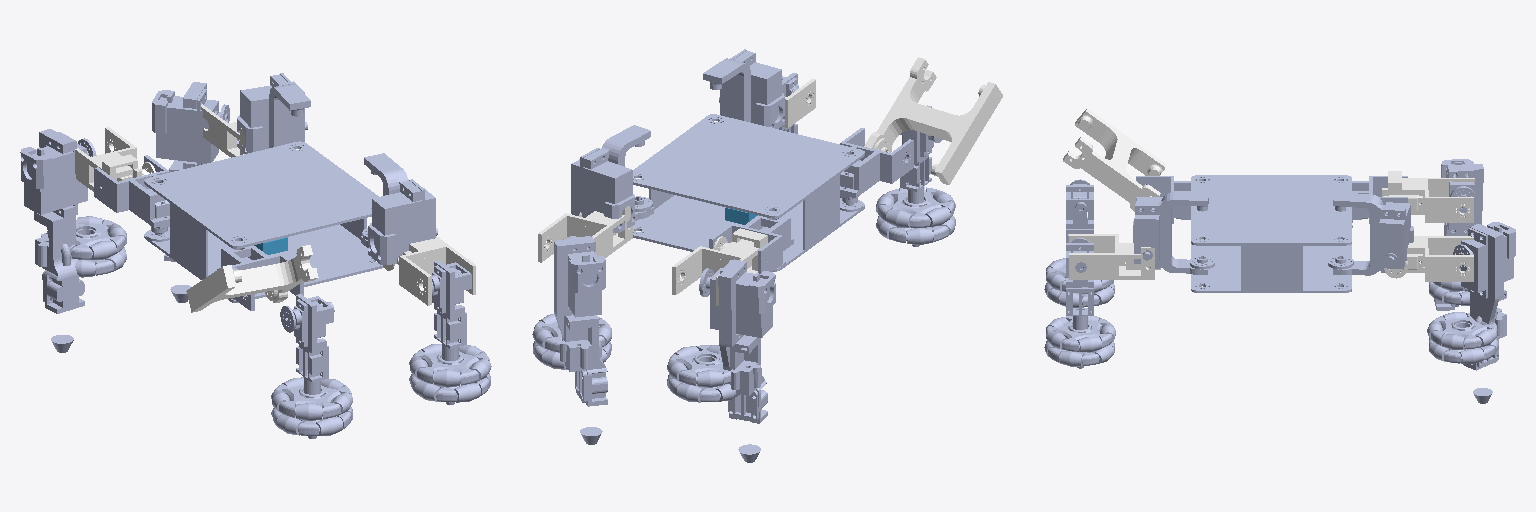
--- What the picture shows (computed from the rendered views, not written in the file) ---
Views: 3 orthographic renders of the robot side by side, from view 1: azimuth 30°, elevation 25°; view 2: azimuth 150°, elevation 25°; view 3: azimuth 270°, elevation 25°.
Model peter_robot with 18 links and 17 joints (12 revolute, 4 continuous, 1 fixed), rooted at base_link, posed every joint at zero.
Visible links, largest first — view 1: base_link, TibiaLD_link, CoxisRU_link, TibiaLU_link, CoxisLU_link, FemurRD_link, RuedaRU_link, RuedaRD_link, TibiaRD_link, CoxisLD_link, TibiaRU_link, RuedaLD_link (+4 smaller); view 2: base_link, TibiaLD_link, TibiaLU_link, FemurRD_link, CoxisLU_link, CoxisRU_link, RuedaRD_link, RuedaLD_link, CoxisRD_link, FemurLD_link, FemurLU_link, CoxisLD_link (+3 smaller); view 3: base_link, TibiaLU_link, FemurRD_link, CoxisLU_link, CoxisRU_link, FemurRU_link, RuedaLU_link, FemurLD_link, RuedaRU_link, FemurLU_link, TibiaLD_link, TibiaRU_link (+5 smaller).
Boxes of the visible links, x1,y1,x2,y2 form: base_link: [144, 141, 383, 302]; TibiaLD_link: [20, 129, 96, 352]; CoxisRU_link: [361, 153, 437, 264]; TibiaLU_link: [152, 82, 229, 302]; CoxisLU_link: [237, 73, 310, 153]; FemurRD_link: [186, 245, 318, 312]; RuedaRU_link: [409, 344, 491, 402]; RuedaRD_link: [271, 377, 352, 435]; TibiaRD_link: [280, 294, 334, 438]; CoxisLD_link: [94, 155, 169, 241]; TibiaRU_link: [423, 260, 471, 404]; RuedaLD_link: [46, 216, 126, 277]; base_link: [633, 114, 864, 271]; TibiaLD_link: [699, 259, 775, 462]; TibiaLU_link: [554, 236, 607, 444]; FemurRD_link: [864, 57, 1002, 184]; CoxisLU_link: [571, 125, 653, 232]; CoxisRU_link: [703, 49, 784, 128]; RuedaRD_link: [876, 187, 955, 244]; RuedaLD_link: [667, 345, 739, 402]; CoxisRD_link: [840, 128, 913, 211]; FemurLD_link: [672, 228, 767, 305]; FemurLU_link: [538, 206, 632, 262]; CoxisLD_link: [709, 215, 793, 273]; base_link: [1191, 175, 1351, 292]; TibiaLU_link: [1453, 222, 1515, 403]; FemurRD_link: [1063, 108, 1166, 211]; CoxisLU_link: [1328, 192, 1413, 275]; CoxisRU_link: [1133, 192, 1214, 274]; FemurRU_link: [1069, 234, 1160, 279]; RuedaLU_link: [1427, 312, 1498, 363]; FemurLD_link: [1382, 171, 1474, 222]; RuedaRU_link: [1044, 316, 1115, 366]; FemurLU_link: [1384, 236, 1473, 281]; TibiaLD_link: [1434, 159, 1483, 310]; TibiaRU_link: [1066, 238, 1093, 368].
Size in the robot's own frame: 0.2109 by 0.3798 by 0.1953 metres.
Meshes: 17 distinct files referenced, 17 mesh visuals loaded (17 binary STL).

The robot description file, URDF, robot "peter_robot":
<?xml version="1.0" encoding="utf-8"?>
<!-- This URDF was automatically created by SolidWorks to URDF Exporter! Originally created by Stephen Brawner ([email redacted]) 
     Commit Version: 1.6.0-4-g7f85cfe  Build Version: 1.6.7995.38578
     For more information, please see http://wiki.ros.org/sw_urdf_exporter -->
<robot
  name="peter_robot">
  <link
    name="base_link">
    <inertial>
      <origin
        xyz="0.0057951163939445818 0.0094736464900437718 0.02"
        rpy="0 0 0" />
      <mass
        value="6.0" />
      <inertia
        ixx="0.000954916141298042"
        ixy="-0.000122009140351572"
        ixz="0.00049717087497589"
        iyy="0.000938276141298042"
        iyz="-0.000196141248736565"
        izz="0.000187141337876107" />
    </inertial>
    <visual>
      <origin
        xyz="0 0 0"
        rpy="0 0 0" />
      <geometry>
        <mesh
          filename="package://peter_robot/meshes/Cuerpo_link.STL" />
      </geometry>
      <material
        name="">
        <color
          rgba="0.792156862745098 0.819607843137255 0.933333333333333 1" />
      </material>
    </visual>
    <collision>
      <origin
        xyz="0 0 0"
        rpy="0 0 0" />
      <geometry>
        <mesh
          filename="package://peter_robot/meshes/Cuerpo_link.STL" />
      </geometry>
    </collision>
  </link>

  <link name="imu_link">
    <visual>
      <geometry>
        <box size="0.02 0.02 0.01"/>
      </geometry>
    </visual>
    <collision>
      <geometry>
        <box size="0.1 0.1 0.05"/>
      </geometry>
    </collision>
    <inertial>
      <mass value="1e-5" />
      <origin xyz="0 0 0" rpy="0 0 0"/>
      <inertia ixx="1e-6" ixy="0" ixz="0" iyy="1e-6" iyz="0" izz="1e-6" />
    </inertial>
  </link>

  <joint
    name="IMU_joint"
    type="fixed">
    <origin
      xyz="0.0 0.0 0.005"
      rpy="3.1416 0 -1.5708" />
    <parent
      link="base_link" />
    <child
      link="imu_link" />
    <axis
      xyz="0 0 -1" />
  </joint>

  <gazebo reference="imu_link">
    <gravity>true</gravity>
    <sensor name="imu_sensor" type="imu">
      <always_on>true</always_on>
      <update_rate>100</update_rate>
      <visualize>true</visualize>
      <topic>__default_topic__</topic>
      <plugin filename="libgazebo_ros_imu_sensor.so" name="imu_plugin">
        <topicName>imu</topicName>
        <bodyName>imu_link</bodyName>
        <updateRateHZ>10.0</updateRateHZ>
        <gaussianNoise>0.0</gaussianNoise>
        <xyzOffset>0 0 0</xyzOffset>
        <rpyOffset>0 0 0</rpyOffset>
        <frameName>imu_link</frameName>
      </plugin>
      <pose>0 0 0 0 0 0</pose>
    </sensor>
  </gazebo>

  <link
    name="CoxisRU_link">
    <inertial>
      <origin
        xyz="0.0145758033903628 -0.000148324192035865 -0.00157951128660489"
        rpy="0 0 0" />
      <mass
        value="0.0198300229745734" />
      <inertia
        ixx="0.00033203887322426106"
        ixy="0.0074374349937085608"
        ixz="0.0056481319330245408"
        iyy="0.0046818529679331306"
        iyz="-0.0059763363601787710"
        izz="0.0062779650870579606" />
    </inertial>
    <visual>
      <origin
        xyz="0 0 0"
        rpy="0 0 0" />
      <geometry>
        <mesh
          filename="package://peter_robot/meshes/CoxisRU_link.STL" />
      </geometry>
      <material
        name="">
        <color
          rgba="0.792156862745098 0.819607843137255 0.933333333333333 1" />
      </material>
    </visual>
    <collision>
      <origin
        xyz="0 0 0"
        rpy="0 0 0" />
      <geometry>
        <mesh
          filename="package://peter_robot/meshes/CoxisRU_link.STL" />
      </geometry>
    </collision>
  </link>
  <joint
    name="CoxisRU_joint"
    type="revolute">
    <origin
      xyz="0.0558 -0.0558 0.02"
      rpy="3.1416 0 -1.5708" />
    <parent
      link="base_link" />
    <child
      link="CoxisRU_link" />
    <axis
      xyz="0 0 -1" />
    <limit
      lower="0"
      upper="1.57"
      effort="300"
      velocity="3" />
  </joint>
  <link
    name="FemurRU_link">
    <inertial>
      <origin
        xyz="0.0158446271127422 0.000731589545819266 -0.00234896627561063"
        rpy="0 0 0" />
      <mass
        value="0.0267646481312129" />
      <inertia
        ixx="0.0027372725885784506"
        ixy="0.0031908239997210907"
        ixz="0.0085342307337404507"
        iyy="0.0073568709647354206"
        iyz="-0.0032602627250091908"
        izz="0.0075404497968736806" />
    </inertial>
    <visual>
      <origin
        xyz="0 0 0"
        rpy="0 0 0" />
      <geometry>
        <mesh
          filename="package://peter_robot/meshes/FemurRU_link.STL" />
      </geometry>
      <material
        name="">
        <color
          rgba="1 1 1 1" />
      </material>
    </visual>
    <collision>
      <origin
        xyz="0 0 0"
        rpy="0 0 0" />
      <geometry>
        <mesh
          filename="package://peter_robot/meshes/FemurRU_link.STL" />
      </geometry>
    </collision>
  </link>
  <joint
    name="FemurRU_joint"
    type="revolute">
    <origin
      xyz="0.04455 0 -0.0046"
      rpy="-1.5708 0 0" />
    <parent
      link="CoxisRU_link" />
    <child
      link="FemurRU_link" />
    <axis
      xyz="0 0 -1" />
    <limit
      lower="-0.785"
      upper="0.785"
      effort="300"
      velocity="3" />
  </joint>
  <link
    name="TibiaRU_link">
    <inertial>
      <origin
        xyz="0.0303344390438305 -0.0064645402920726606 -0.00266255588885558"
        rpy="0 0 0" />
      <mass
        value="0.0203567389256734" />
      <inertia
        ixx="0.001075309559184606"
        ixy="0.0040821313346320112"
        ixz="-0.0072023647371747208"
        iyy="0.0035902033061377306"
        iyz="0.0080605163458934112"
        izz="0.0037227584809434606" />
    </inertial>
    <visual>
      <origin
        xyz="0 0 0"
        rpy="0 0 0" />
      <geometry>
        <mesh
          filename="package://peter_robot/meshes/TibiaRU_link.STL" />
      </geometry>
      <material
        name="">
        <color
          rgba="0.792156862745098 0.819607843137255 0.933333333333333 1" />
      </material>
    </visual>
    <collision>
      <origin
        xyz="0 0 0"
        rpy="0 0 0" />
      <geometry>
        <mesh
          filename="package://peter_robot/meshes/TibiaRU_link.STL" />
      </geometry>
    </collision>
  </link>
  <joint
    name="TibiaRU_joint"
    type="revolute">
    <origin
      xyz="0.05395 0 0.0016"
      rpy="0 0 -1.5708" />
    <parent
      link="FemurRU_link" />
    <child
      link="TibiaRU_link" />
    <axis
      xyz="0 0 -1" />
    <limit
      lower="-1.57"
      upper="0.3925"
      effort="300"
      velocity="3" />
  </joint>
  <link
    name="RuedaRU_link">
    <inertial>
      <origin
        xyz="-0.0022780147213019610 0.0025475066500746410 -0.0063190357210696208"
        rpy="0 0 0" />
      <mass
        value="0.0405034383813953" />
      <inertia
        ixx="0.005174137497296206"
        ixy="0.0068457155389386413"
        ixz="0.0021378186017250514"
        iyy="0.0051741383388720806"
        iyz="0.0066069139604846515"
        izz="0.0097299113209887706" />
    </inertial>
    <visual>
      <origin
        xyz="0 0 0"
        rpy="0 0 0" />
      <geometry>
        <mesh
          filename="package://peter_robot/meshes/RuedaRU_link.STL" />
      </geometry>
      <material
        name="">
        <color
          rgba="0.792156862745098 0.819607843137255 0.933333333333333 1" />
      </material>
    </visual>
    <collision>
      <origin
        xyz="0 0 0"
        rpy="0 0 0" />
      <geometry>
        <mesh
          filename="package://peter_robot/meshes/RuedaRU_link.STL" />
      </geometry>
    </collision>
  </link>
  <joint
    name="RuedaRU_joint"
    type="continuous">
    <origin
      xyz="0.07225 0 -0.0039"
      rpy="0 1.5708 0" />
    <parent
      link="TibiaRU_link" />
    <child
      link="RuedaRU_link" />
    <axis
      xyz="0 0 -1" />
    <limit
      effort="300"
      velocity="3" />
  </joint>
  <link
    name="CoxisLU_link">
    <inertial>
      <origin
        xyz="0.0145758033898372 -0.000148324188575952 -0.00157951128572802"
        rpy="0 0 0" />
      <mass
        value="0.0198300229757828" />
      <inertia
        ixx="0.0033203887324183906"
        ixy="0.0074374350512450708"
        ixz="0.0056481319356737508"
        iyy="0.0046818529679575306"
        iyz="-0.0059763413290627210"
        izz="0.0062779650870379706" />
    </inertial>
    <visual>
      <origin
        xyz="0 0 0"
        rpy="0 0 0" />
      <geometry>
        <mesh
          filename="package://peter_robot/meshes/CoxisLU_link.STL" />
      </geometry>
      <material
        name="">
        <color
          rgba="0.792156862745098 0.819607843137255 0.933333333333333 1" />
      </material>
    </visual>
    <collision>
      <origin
        xyz="0 0 0"
        rpy="0 0 0" />
      <geometry>
        <mesh
          filename="package://peter_robot/meshes/CoxisLU_link.STL" />
      </geometry>
    </collision>
  </link>
  <joint
    name="CoxisLU_joint"
    type="revolute">
    <origin
      xyz="0.0558 0.0558 0.02"
      rpy="3.1416 0 1.5708" />
    <parent
      link="base_link" />
    <child
      link="CoxisLU_link" />
    <axis
      xyz="0 0 -1" />
    <limit
      lower="-1.57"
      upper="0"
      effort="300"
      velocity="3" />
  </joint>
  <link
    name="FemurLU_link">
    <inertial>
      <origin
        xyz="0.0158446270939323 0.000731589541232057 -0.0023489662634897"
        rpy="0 0 0" />
      <mass
        value="0.0267646481619211" />
      <inertia
        ixx="0.0027372725904361806"
        ixy="0.0031908239941182507"
        ixz="0.0085342307466234407"
        iyy="0.0073568709674539306"
        iyz="-0.003260262652798508"
        izz="0.0075404497985481606" />
    </inertial>
    <visual>
      <origin
        xyz="0 0 0"
        rpy="0 0 0" />
      <geometry>
        <mesh
          filename="package://peter_robot/meshes/FemurLU_link.STL" />
      </geometry>
      <material
        name="">
        <color
          rgba="1 1 1 1" />
      </material>
    </visual>
    <collision>
      <origin
        xyz="0 0 0"
        rpy="0 0 0" />
      <geometry>
        <mesh
          filename="package://peter_robot/meshes/FemurLU_link.STL" />
      </geometry>
    </collision>
  </link>
  <joint
    name="FemurLU_joint"
    type="revolute">
    <origin
      xyz="0.04455 0 -0.0046"
      rpy="-1.5708 0 0" />
    <parent
      link="CoxisLU_link" />
    <child
      link="FemurLU_link" />
    <axis
      xyz="0 0 -1" />
    <limit
      lower="-0.785"
      upper="0.785"
      effort="300"
      velocity="3" />
  </joint>
  <link
    name="TibiaLU_link">
    <inertial>
      <origin
        xyz="0.0303344390398229 -0.0064645402714225106 0.000537444112589075"
        rpy="0 0 0" />
      <mass
        value="0.0203567389283255" />
      <inertia
        ixx="0.0010753095594363206"
        ixy="0.0040821340532090512"
        ixz="-0.0072023647216624708"
        iyy="0.0035902033064178606"
        iyz="0.0080605028999537812"
        izz="0.0037227584810593206" />
    </inertial>
    <visual>
      <origin
        xyz="0 0 0"
        rpy="0 0 0" />
      <geometry>
        <mesh
          filename="package://peter_robot/meshes/TibiaLU_link.STL" />
      </geometry>
      <material
        name="">
        <color
          rgba="0.792156862745098 0.819607843137255 0.933333333333333 1" />
      </material>
    </visual>
    <collision>
      <origin
        xyz="0 0 0"
        rpy="0 0 0" />
      <geometry>
        <mesh
          filename="package://peter_robot/meshes/TibiaLU_link.STL" />
      </geometry>
    </collision>
  </link>
  <joint
    name="TibiaLU_joint"
    type="revolute">
    <origin
      xyz="0.05395 0 -0.0016"
      rpy="0 0 -1.5708" />
    <parent
      link="FemurLU_link" />
    <child
      link="TibiaLU_link" />
    <axis
      xyz="0 0 -1" />
    <limit
      lower="-1.57"
      upper="0.3925"
      effort="300"
      velocity="3" />
  </joint>
  <link
    name="RuedaLU_link">
    <inertial>
      <origin
        xyz="0.002278017288692710 -0.0025475083154091710 -0.0063190355295561508"
        rpy="0 0 0" />
      <mass
        value="0.0405034383813952" />
      <inertia
        ixx="0.005174137497296206"
        ixy="0.0068457155759549713"
        ixz="-0.0021378184629713714"
        iyy="0.0051741383388720806"
        iyz="-0.0066069135756848315"
        izz="0.0097299113209887706" />
    </inertial>
    <visual>
      <origin
        xyz="0 0 0"
        rpy="0 0 0" />
      <geometry>
        <mesh
          filename="package://peter_robot/meshes/RuedaLU_link.STL" />
      </geometry>
      <material
        name="">
        <color
          rgba="0.792156862745098 0.819607843137255 0.933333333333333 1" />
      </material>
    </visual>
    <collision>
      <origin
        xyz="0 0 0"
        rpy="0 0 0" />
      <geometry>
        <mesh
          filename="package://peter_robot/meshes/RuedaLU_link.STL" />
      </geometry>
    </collision>
  </link>
  <joint
    name="RuedaLU_joint"
    type="continuous">
    <origin
      xyz="0.07225 0 -0.0007"
      rpy="0 -1.5708 0" />
    <parent
      link="TibiaLU_link" />
    <child
      link="RuedaLU_link" />
    <axis
      xyz="0 0 -1" />
  </joint>
  <link
    name="CoxisRD_link">
    <inertial>
      <origin
        xyz="0.0145758034147555 -0.000148324186287456 -0.00157951130233852"
        rpy="0 0 0" />
      <mass
        value="0.0198300229471255" />
      <inertia
        ixx="0.0033203887309334506"
        ixy="0.0074374350931830508"
        ixz="0.0056481317661782108"
        iyy="0.0046818529645321506"
        iyz="-0.0059763449243910710"
        izz="0.0062779650849971806" />
    </inertial>
    <visual>
      <origin
        xyz="0 0 0"
        rpy="0 0 0" />
      <geometry>
        <mesh
          filename="package://peter_robot/meshes/CoxisRD_link.STL" />
      </geometry>
      <material
        name="">
        <color
          rgba="0.792156862745098 0.819607843137255 0.933333333333333 1" />
      </material>
    </visual>
    <collision>
      <origin
        xyz="0 0 0"
        rpy="0 0 0" />
      <geometry>
        <mesh
          filename="package://peter_robot/meshes/CoxisRD_link.STL" />
      </geometry>
    </collision>
  </link>
  <joint
    name="CoxisRD_joint"
    type="revolute">
    <origin
      xyz="-0.0558 -0.0558 0.02"
      rpy="3.1416 0 -1.5708" />
    <parent
      link="base_link" />
    <child
      link="CoxisRD_link" />
    <axis
      xyz="0 0 -1" />
    <limit
      lower="-1.57"
      upper="0"
      effort="300"
      velocity="3" />
  </joint>
  <link
    name="FemurRD_link">
    <inertial>
      <origin
        xyz="0.0158446271061813 0.000731589545244282 -0.00234896627188297"
        rpy="0 0 0" />
      <mass
        value="0.0267646481407517" />
      <inertia
        ixx="0.0027372725890429706"
        ixy="0.0031908239989177907"
        ixz="0.0085342307390399407"
        iyy="0.0073568709658379206"
        iyz="-0.0032602627185682608"
        izz="0.0075404497975679406" />
    </inertial>
    <visual>
      <origin
        xyz="0 0 0"
        rpy="0 0 0" />
      <geometry>
        <mesh
          filename="package://peter_robot/meshes/FemurRD_link.STL" />
      </geometry>
      <material
        name="">
        <color
          rgba="1 1 1 1" />
      </material>
    </visual>
    <collision>
      <origin
        xyz="0 0 0"
        rpy="0 0 0" />
      <geometry>
        <mesh
          filename="package://peter_robot/meshes/FemurRD_link.STL" />
      </geometry>
    </collision>
  </link>
  <joint
    name="FemurRD_joint"
    type="revolute">
    <origin
      xyz="0.04455 0 -0.0046"
      rpy="-1.5708 0 0" />
    <parent
      link="CoxisRD_link" />
    <child
      link="FemurRD_link" />
    <axis
      xyz="0 0 -1" />
    <limit
      lower="-0.785"
      upper="0.785"
      effort="300"
      velocity="3" />
  </joint>
  <link
    name="TibiaRD_link">
    <inertial>
      <origin
        xyz="0.0303344391647721 -0.0064645363408999406 -0.0026625559205628"
        rpy="0 0 0" />
      <mass
        value="0.0203567388517281" />
      <inertia
        ixx="0.0010753095557645506"
        ixy="0.0040828428449131212"
        ixz="-0.0072023651659255508"
        iyy="0.0035902032972577406"
        iyz="0.008059946090131212"
        izz="0.0037227584753179706" />
    </inertial>
    <visual>
      <origin
        xyz="0 0 0"
        rpy="0 0 0" />
      <geometry>
        <mesh
          filename="package://peter_robot/meshes/TibiaRD_link.STL" />
      </geometry>
      <material
        name="">
        <color
          rgba="0.792156862745098 0.819607843137255 0.933333333333333 1" />
      </material>
    </visual>
    <collision>
      <origin
        xyz="0 0 0"
        rpy="0 0 0" />
      <geometry>
        <mesh
          filename="package://peter_robot/meshes/TibiaRD_link.STL" />
      </geometry>
    </collision>
  </link>
  <joint
    name="TibiaRD_joint"
    type="revolute">
    <origin
      xyz="0.05395 0 0.0016"
      rpy="0 0 -1.5708" />
    <parent
      link="FemurRD_link" />
    <child
      link="TibiaRD_link" />
    <axis
      xyz="0 0 -1" />
    <limit
      lower="-1.57"
      upper="0.3925"
      effort="300"
      velocity="3" />
  </joint>
  <link
    name="RuedaRD_link">
    <inertial>
      <origin
        xyz="-0.0022780147213019610 0.0025475072051861510 -0.0063190359493592308"
        rpy="0 0 0" />
      <mass
        value="0.0405034383813952" />
      <inertia
        ixx="0.005174137497296206"
        ixy="0.0068457155408163413"
        ixz="0.002137818453735414"
        iyy="0.0051741383388720806"
        iyz="0.0066069143859850515"
        izz="0.0097299113209887606" />
    </inertial>
    <visual>
      <origin
        xyz="0 0 0"
        rpy="0 0 0" />
      <geometry>
        <mesh
          filename="package://peter_robot/meshes/RuedaRD_link.STL" />
      </geometry>
      <material
        name="">
        <color
          rgba="0.792156862745098 0.819607843137255 0.933333333333333 1" />
      </material>
    </visual>
    <collision>
      <origin
        xyz="0 0 0"
        rpy="0 0 0" />
      <geometry>
        <mesh
          filename="package://peter_robot/meshes/RuedaRD_link.STL" />
      </geometry>
    </collision>
  </link>
  <joint
    name="RuedaRD_joint"
    type="continuous">
    <origin
      xyz="0.07225 0 -0.0039"
      rpy="0 1.5708 0" />
    <parent
      link="TibiaRD_link" />
    <child
      link="RuedaRD_link" />
    <axis
      xyz="0 0 -1" />
  </joint>
  <link
    name="CoxisLD_link">
    <inertial>
      <origin
        xyz="0.0145758034287634 -0.000148324186440819 -0.00157951131109748"
        rpy="0 0 0" />
      <mass
        value="0.0198300229322089" />
      <inertia
        ixx="0.003320388730206"
        ixy="0.0074374350824844708"
        ixz="0.0056481316618717208"
        iyy="0.0046818529625022906"
        iyz="-0.0059763447978343810"
        izz="0.0062779650837921106" />
    </inertial>
    <visual>
      <origin
        xyz="0 0 0"
        rpy="0 0 0" />
      <geometry>
        <mesh
          filename="package://peter_robot/meshes/CoxisLD_link.STL" />
      </geometry>
      <material
        name="">
        <color
          rgba="0.792156862745098 0.819607843137255 0.933333333333333 1" />
      </material>
    </visual>
    <collision>
      <origin
        xyz="0 0 0"
        rpy="0 0 0" />
      <geometry>
        <mesh
          filename="package://peter_robot/meshes/CoxisLD_link.STL" />
      </geometry>
    </collision>
  </link>
  <joint
    name="CoxisLD_joint"
    type="revolute">
    <origin
      xyz="-0.0557999999999999 0.0558000000000001 0.02"
      rpy="3.14159265358979 0 1.5707963267949" />
    <parent
      link="base_link" />
    <child
      link="CoxisLD_link" />
    <axis
      xyz="0 0 -1" />
    <limit
      lower="0"
      upper="1.57"
      effort="300"
      velocity="3" />
  </joint>
  <link
    name="FemurLD_link">
    <inertial>
      <origin
        xyz="0.0158446271347616 0.000731589548341318 -0.00234896628844949"
        rpy="0 0 0" />
      <mass
        value="0.0267646480993488" />
      <inertia
        ixx="0.0027372725869173606"
        ixy="0.0031908240034705407"
        ixz="0.0085342307149318207"
        iyy="0.0073568709609241106"
        iyz="-0.0032602627566903708"
        izz="0.0075404497946103606" />
    </inertial>
    <visual>
      <origin
        xyz="0 0 0"
        rpy="0 0 0" />
      <geometry>
        <mesh
          filename="package://peter_robot/meshes/FemurLD_link.STL" />
      </geometry>
      <material
        name="">
        <color
          rgba="1 1 1 1" />
      </material>
    </visual>
    <collision>
      <origin
        xyz="0 0 0"
        rpy="0 0 0" />
      <geometry>
        <mesh
          filename="package://peter_robot/meshes/FemurLD_link.STL" />
      </geometry>
    </collision>
  </link>
  <joint
    name="FemurLD_joint"
    type="revolute">
    <origin
      xyz="0.0445499999999999 0 -0.00459999999999999"
      rpy="-1.5707963267949 0 0" />
    <parent
      link="CoxisLD_link" />
    <child
      link="FemurLD_link" />
    <axis
      xyz="0 0 -1" />
    <limit
      lower="-0.725"
      upper="0.725"
      effort="300"
      velocity="3" />
  </joint>
  <link
    name="TibiaLD_link">
    <inertial>
      <origin
        xyz="0.0303344390126996 -0.0064645429165843806 0.000537444120214961"
        rpy="0 0 0" />
      <mass
        value="0.0203567389458481" />
      <inertia
        ixx="0.0010753095603793906"
        ixy="0.0040815514175290412"
        ixz="-0.0072023646401669108"
        iyy="0.0035902033081829706"
        iyz="0.0080608997546156212"
        izz="0.0037227584821212906" />
    </inertial>
    <visual>
      <origin
        xyz="0 0 0"
        rpy="0 0 0" />
      <geometry>
        <mesh
          filename="package://peter_robot/meshes/TibiaLD_link.STL" />
      </geometry>
      <material
        name="">
        <color
          rgba="0.792156862745098 0.819607843137255 0.933333333333333 1" />
      </material>
    </visual>
    <collision>
      <origin
        xyz="0 0 0"
        rpy="0 0 0" />
      <geometry>
        <mesh
          filename="package://peter_robot/meshes/TibiaLD_link.STL" />
      </geometry>
    </collision>
  </link>
  <joint
    name="TibiaLD_joint"
    type="revolute">
    <origin
      xyz="0.0539500000000001 0 -0.00159999999999993"
      rpy="0 0 -1.5707963267949" />
    <parent
      link="FemurLD_link" />
    <child
      link="TibiaLD_link" />
    <axis
      xyz="0 0 -1" />
    <limit
      lower="-1.57"
      upper="0.3925"
      effort="300"
      velocity="3" />
  </joint>
  <link
    name="RuedaLD_link">
    <inertial>
      <origin
        xyz="0.002278017288692710 -0.0025475085929649310 -0.0063190356197617708"
        rpy="0 0 0" />
      <mass
        value="0.0405034383813952" />
      <inertia
        ixx="0.0051741374972961906"
        ixy="0.0068457155467389613"
        ixz="-0.0021378185041981414"
        iyy="0.0051741383388720806"
        iyz="-0.0066069141633005815"
        izz="0.0097299113209887706" />
    </inertial>
    <visual>
      <origin
        xyz="0 0 0"
        rpy="0 0 0" />
      <geometry>
        <mesh
          filename="package://peter_robot/meshes/RuedaLD_link.STL" />
      </geometry>
      <material
        name="">
        <color
          rgba="0.792156862745098 0.819607843137255 0.933333333333333 1" />
      </material>
    </visual>
    <collision>
      <origin
        xyz="0 0 0"
        rpy="0 0 0" />
      <geometry>
        <mesh
          filename="package://peter_robot/meshes/RuedaLD_link.STL" />
      </geometry>
    </collision>
  </link>
  <joint
    name="RuedaLD_joint"
    type="continuous">
    <origin
      xyz="0.0722499993139122 0 -0.00070000009500111"
      rpy="0 -1.5707963267949 0" />
    <parent
      link="TibiaLD_link" />
    <child
      link="RuedaLD_link" />
    <axis
      xyz="0 0 -1" />
  </joint>
</robot>
